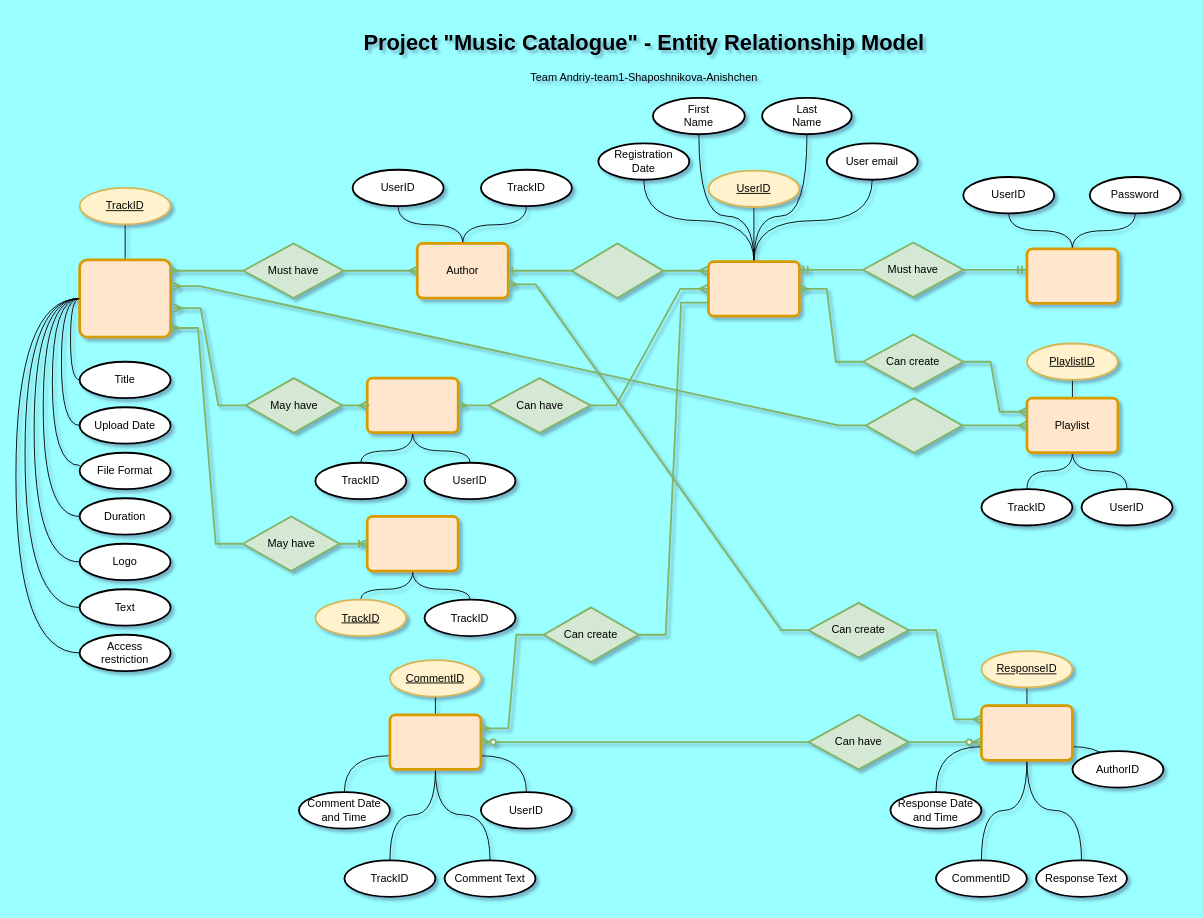
Some shapes in this 1203 by 918 pixel diagram are drawn without their labels. The shapes that lost their labels are listed below. From the top down, each one's centre as x and y in pixels, then its label:
(x=617, y=270): Acts as
(x=753, y=288): User
(x=1072, y=275): Login Credentials
(x=125, y=298): Soundtrack
(x=412, y=405): Limited access rights
(x=913, y=425): May be included
(x=412, y=543): Genre
(x=435, y=741): Comment
(x=1026, y=732): Response
